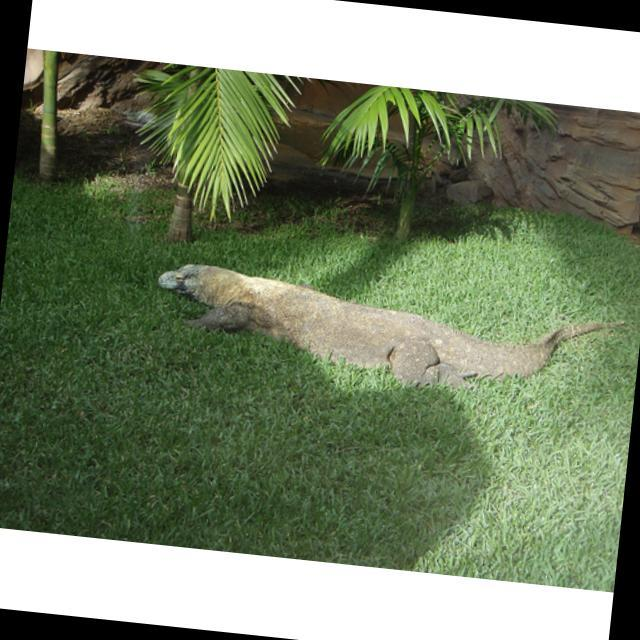KomodoDragon: (152, 256, 631, 411)
